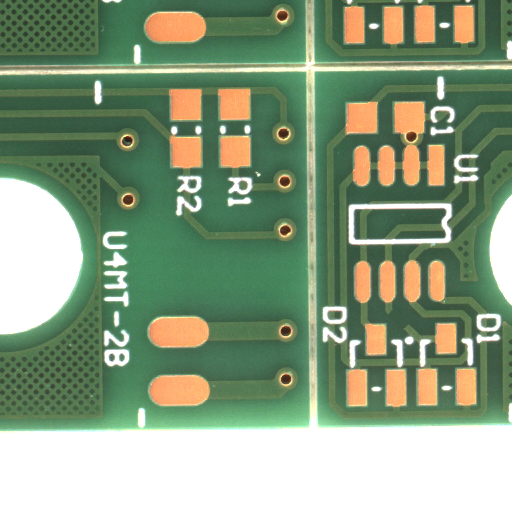Open_circuit: (399, 320, 423, 341)
